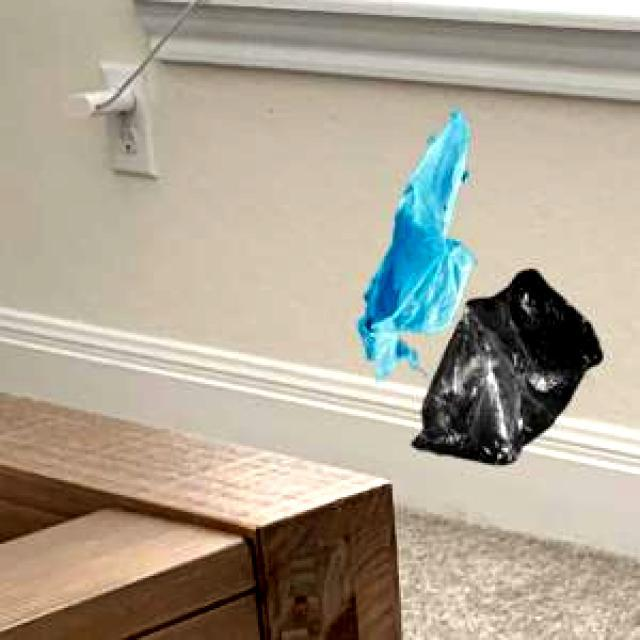Plastic_Bag: (408, 265, 598, 462), (355, 105, 473, 378)
